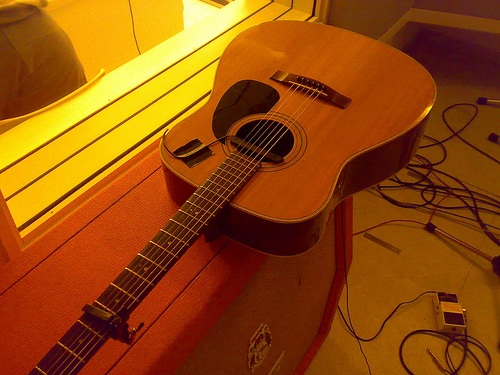guitar: (26, 19, 435, 375)
